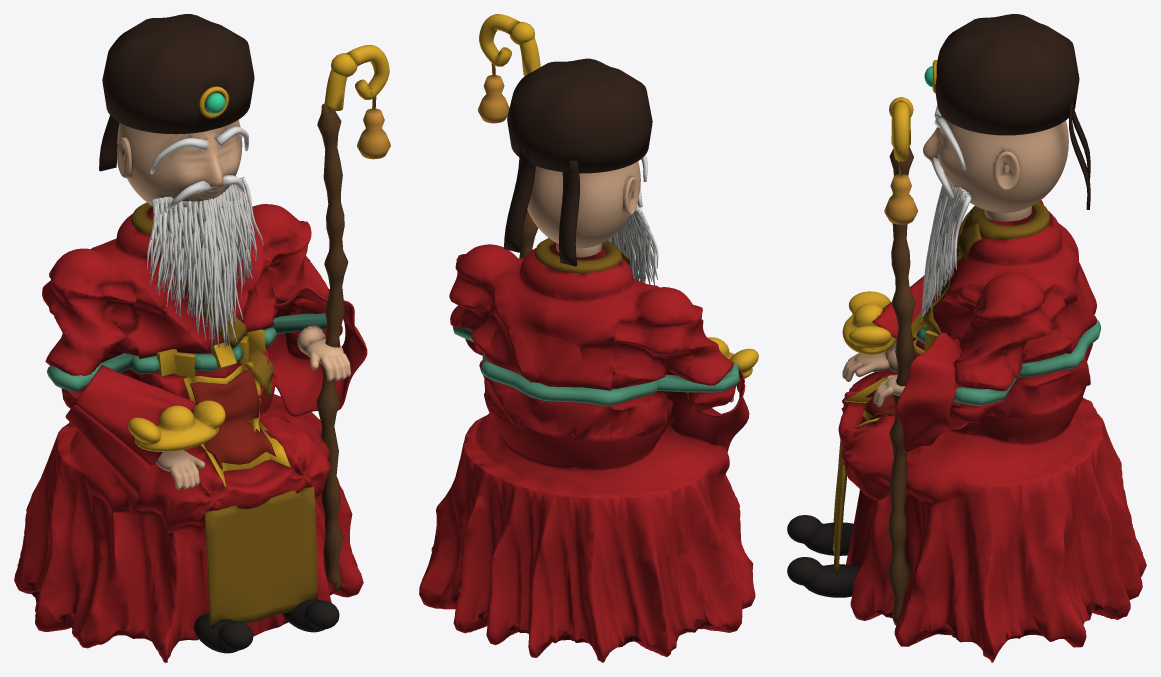
File: tudigong.glb
The picture shows the model from 3 angles, left to right: view 1: azimuth 30°, elevation 25°; view 2: azimuth 150°, elevation 25°; view 3: azimuth 270°, elevation 25°; orthographic projection. The views are drawn at different scales.
Visible parts, largest first — view 1: TD_Robe, TD_HatMesh, TD_BeardMesh, TD_Apron, TD_SleeveL, TD_Staff, TD_HeadMesh, TD_SleeveR, TD_BadgeMesh, TD_Ingot, TD_Belt, TD_Boots (+8 smaller); view 2: TD_Robe, TD_HatMesh, TD_HeadMesh, TD_Belt, TD_Ribbons, TD_SleeveL, TD_BeardMesh, TD_Crook, TD_Collar, TD_StaffGourd, TD_Ingot, TD_Staff (+1 smaller); view 3: TD_Robe, TD_HatMesh, TD_HeadMesh, TD_Staff, TD_SleeveR, TD_BeardMesh, TD_Boots, TD_Ingot, TD_Belt, TD_Collar, TD_StaffGourd, TD_Crook (+9 smaller).
Part boxes in pixels (box(x1,y1,x2,y2)): TD_Robe: box(14, 204, 363, 662); TD_HatMesh: box(102, 14, 254, 134); TD_BeardMesh: box(147, 126, 263, 349); TD_Apron: box(204, 486, 317, 626); TD_SleeveL: box(65, 365, 196, 513); TD_Staff: box(316, 103, 348, 592); TD_HeadMesh: box(117, 120, 242, 206); TD_SleeveR: box(266, 287, 367, 416); TD_BadgeMesh: box(190, 368, 276, 469); TD_Ingot: box(128, 400, 225, 451); TD_Belt: box(47, 313, 326, 392); TD_Boots: box(194, 599, 339, 653); TD_Robe: box(419, 242, 755, 662); TD_HatMesh: box(507, 58, 652, 173); TD_HeadMesh: box(527, 161, 640, 248); TD_Belt: box(452, 326, 739, 406); TD_Ribbons: box(504, 147, 579, 266); TD_SleeveL: box(667, 359, 749, 452); TD_BeardMesh: box(548, 154, 658, 285); TD_Crook: box(479, 14, 540, 76); TD_Collar: box(534, 238, 622, 272); TD_StaffGourd: box(478, 45, 509, 123); TD_Ingot: box(708, 337, 758, 378); TD_Staff: box(519, 210, 538, 258); TD_Robe: box(838, 200, 1146, 662); TD_HatMesh: box(935, 14, 1079, 135); TD_HeadMesh: box(923, 115, 1068, 212); TD_Staff: box(887, 147, 915, 625); TD_SleeveR: box(895, 332, 968, 452); TD_BeardMesh: box(920, 105, 971, 321); TD_Boots: box(787, 515, 859, 597); TD_Ingot: box(842, 291, 896, 354); TD_Belt: box(916, 319, 1100, 405); TD_Collar: box(968, 202, 1050, 239); TD_StaffGourd: box(884, 161, 917, 224); TD_Crook: box(889, 97, 913, 161).
Bounding box in the file's own units: 1.18 × 2.01 × 1.16.
